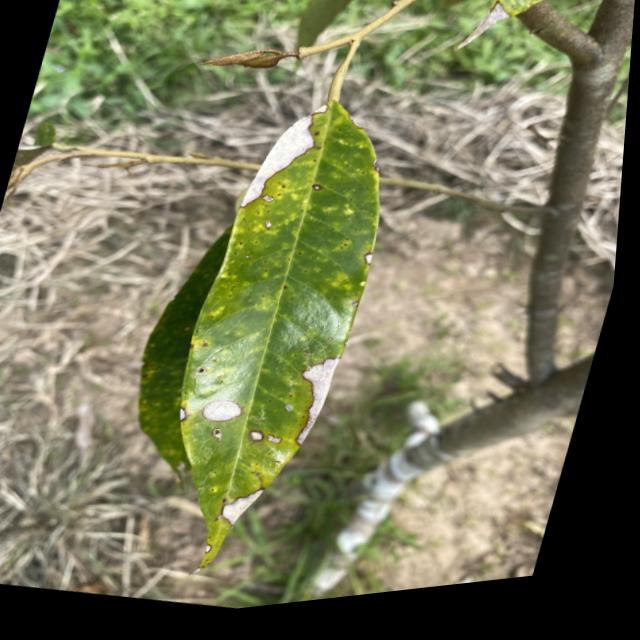Leaf Blight: (236, 87, 341, 248), (280, 345, 360, 461), (222, 476, 281, 541), (199, 395, 258, 436), (362, 248, 389, 279), (178, 400, 202, 430), (256, 432, 271, 451), (210, 551, 224, 563)
